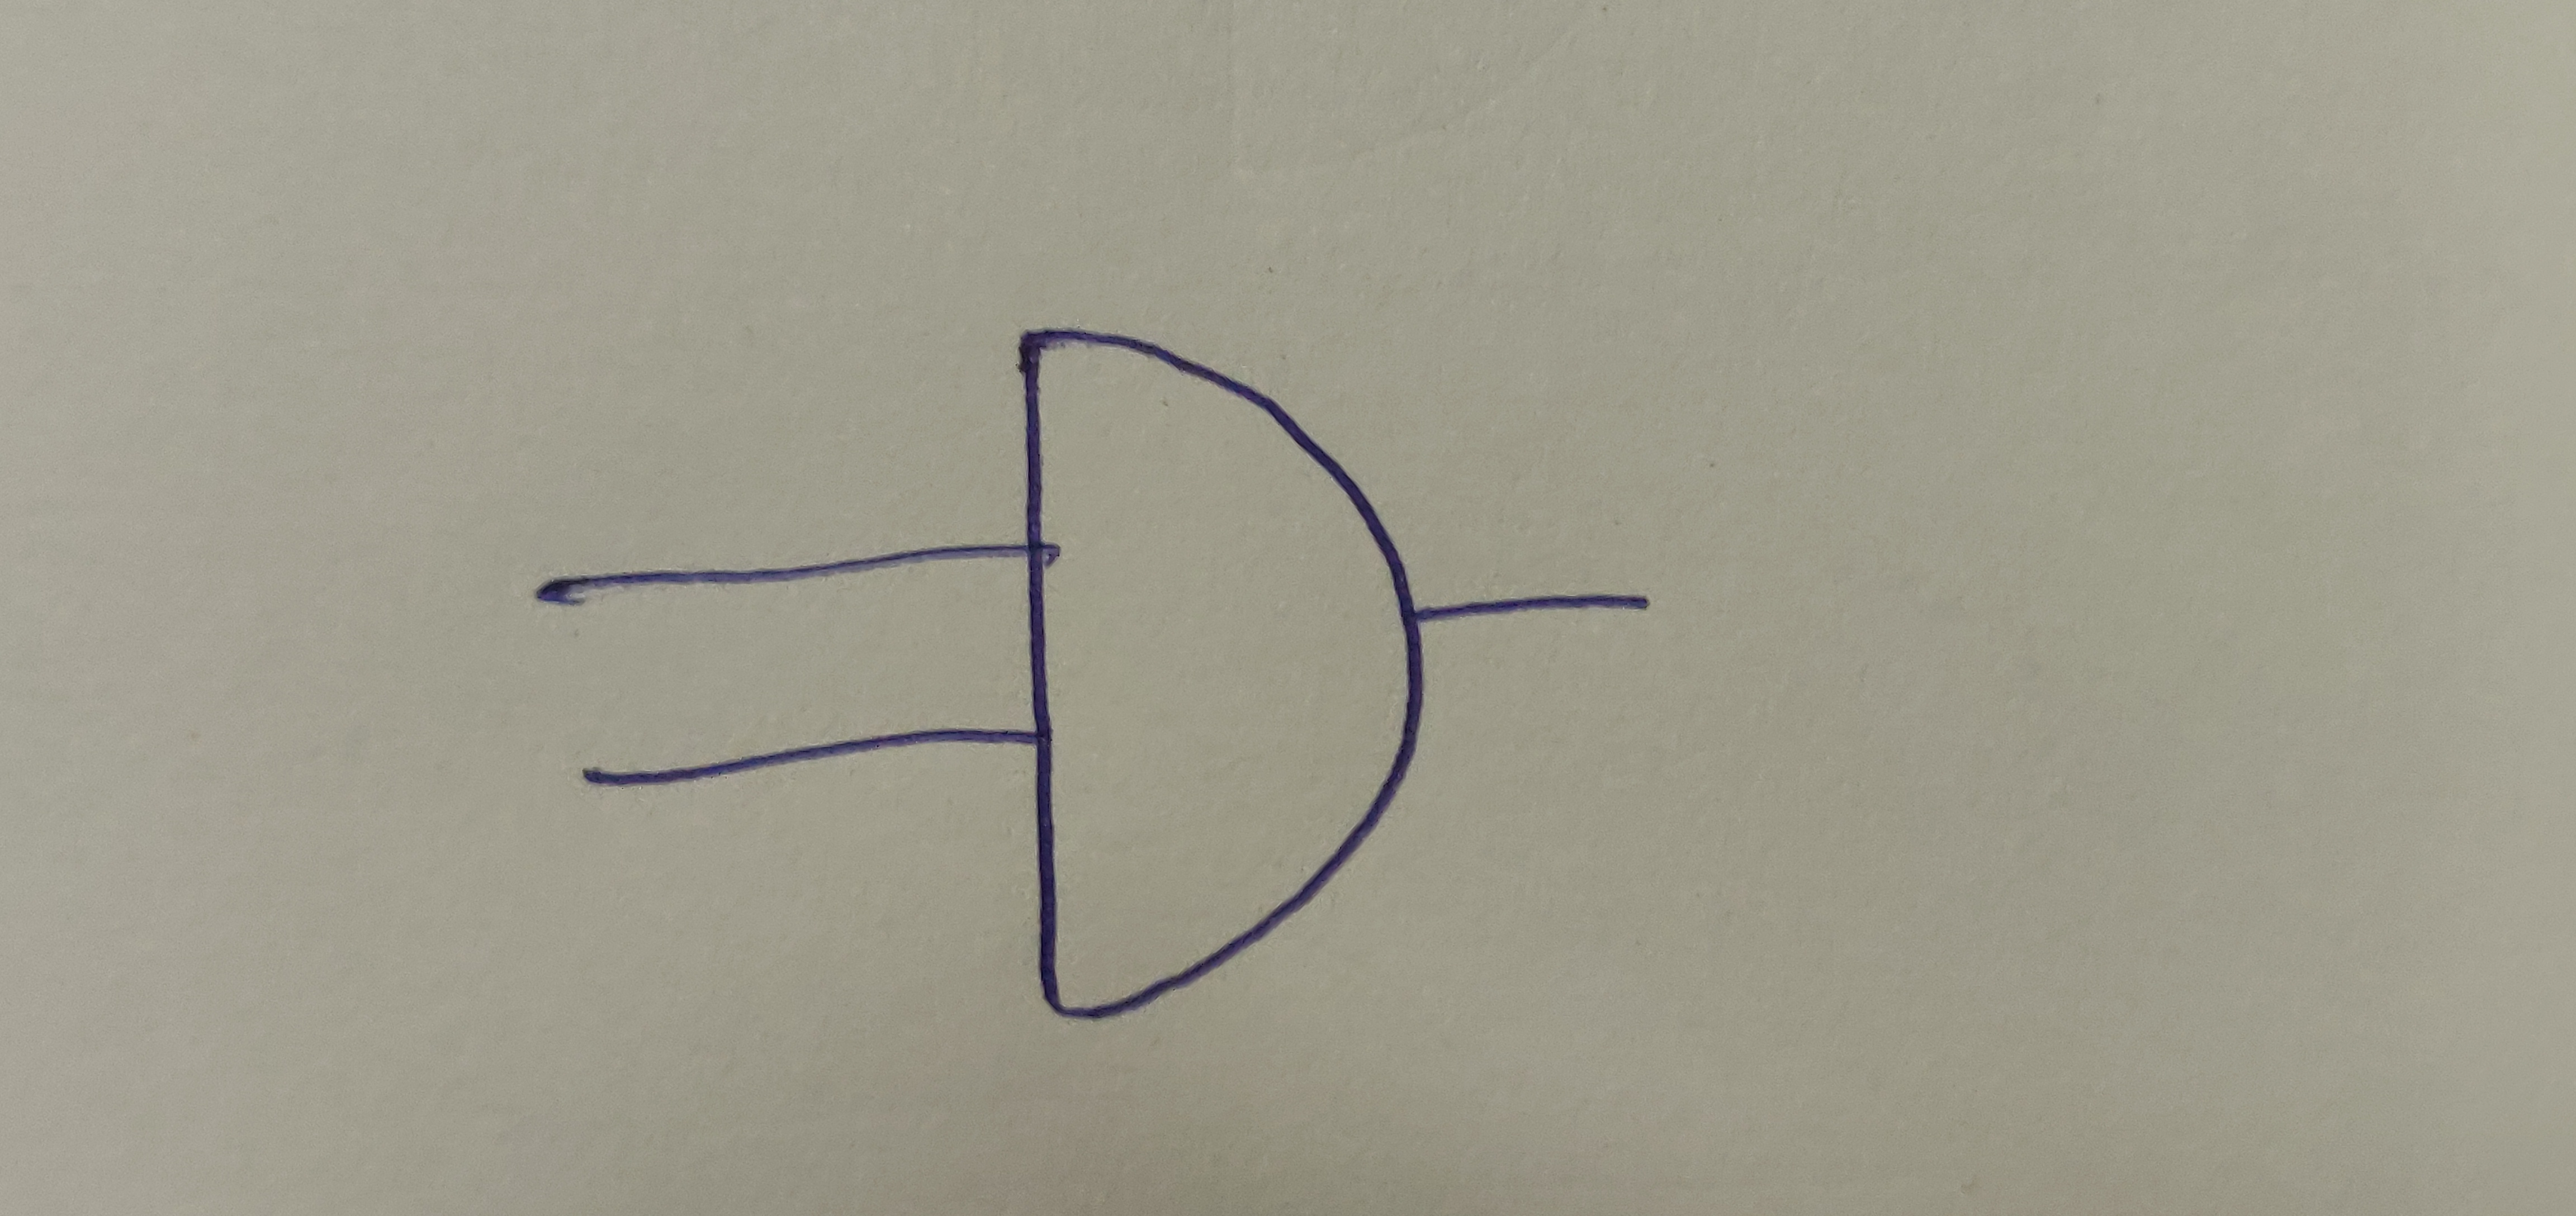and: (1015, 324, 1419, 1019)
